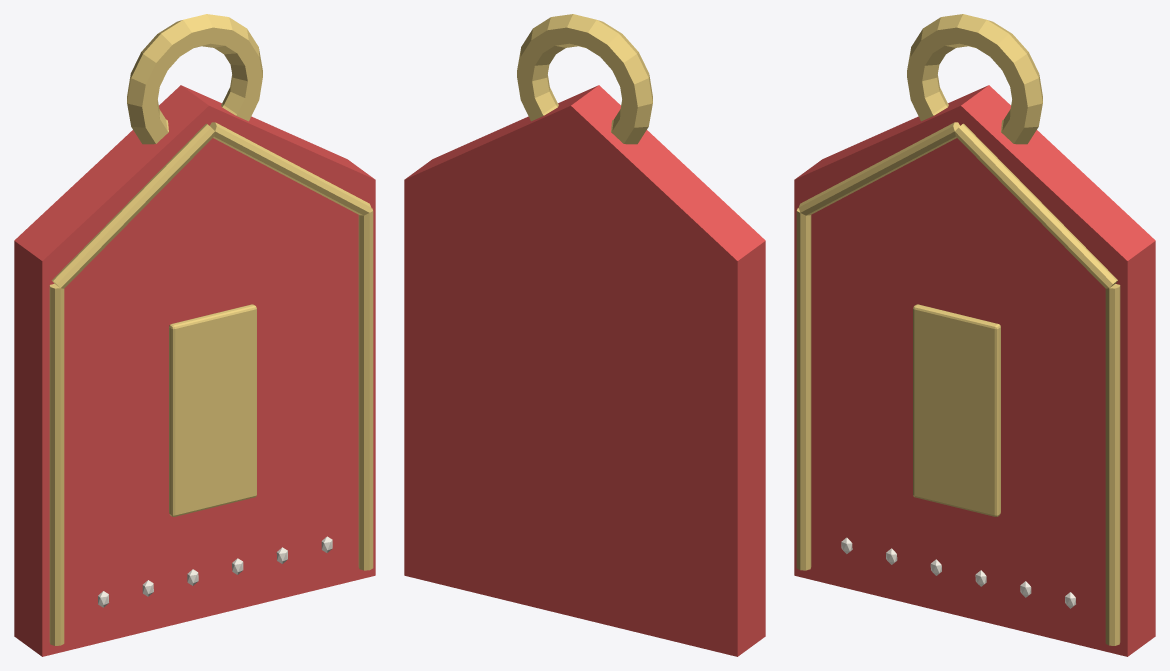
Rendered from ritual_omamori.glb.
3 renders of one model, left to right at view 1: azimuth 30°, elevation 25°; view 2: azimuth 150°, elevation 25°; view 3: azimuth 330°, elevation 25°, orthographic.
Visible parts, largest first — view 1: Precisely pointed omamori silk pouch, Central charm protective stitch, Woven closure cord, Omamori raised side stitching_00, Omamori raised side stitching_00.001, Omamori raised side stitching_01, Omamori raised side stitching_01.001; view 2: Precisely pointed omamori silk pouch, Woven closure cord; view 3: Precisely pointed omamori silk pouch, Central charm protective stitch, Woven closure cord, Omamori raised side stitching_00.001, Omamori raised side stitching_00, Omamori raised side stitching_01.001, Omamori raised side stitching_01.
Part boxes in pixels (x1,y1,x2,y2): Precisely pointed omamori silk pouch: (14, 85, 375, 656); Central charm protective stitch: (169, 304, 256, 516); Woven closure cord: (127, 14, 262, 144); Omamori raised side stitching_00: (49, 284, 64, 645); Omamori raised side stitching_00.001: (358, 208, 373, 570); Omamori raised side stitching_01: (52, 123, 214, 288); Omamori raised side stitching_01.001: (210, 122, 371, 215); Precisely pointed omamori silk pouch: (404, 85, 765, 656); Woven closure cord: (517, 14, 652, 144); Precisely pointed omamori silk pouch: (794, 85, 1155, 656); Central charm protective stitch: (913, 304, 1000, 516); Woven closure cord: (907, 14, 1042, 144); Omamori raised side stitching_00.001: (1105, 284, 1120, 645); Omamori raised side stitching_00: (796, 208, 811, 570); Omamori raised side stitching_01.001: (955, 123, 1117, 288); Omamori raised side stitching_01: (798, 122, 959, 215).
Size of the model in its own units: 1.15 by 1.95 by 0.207.
